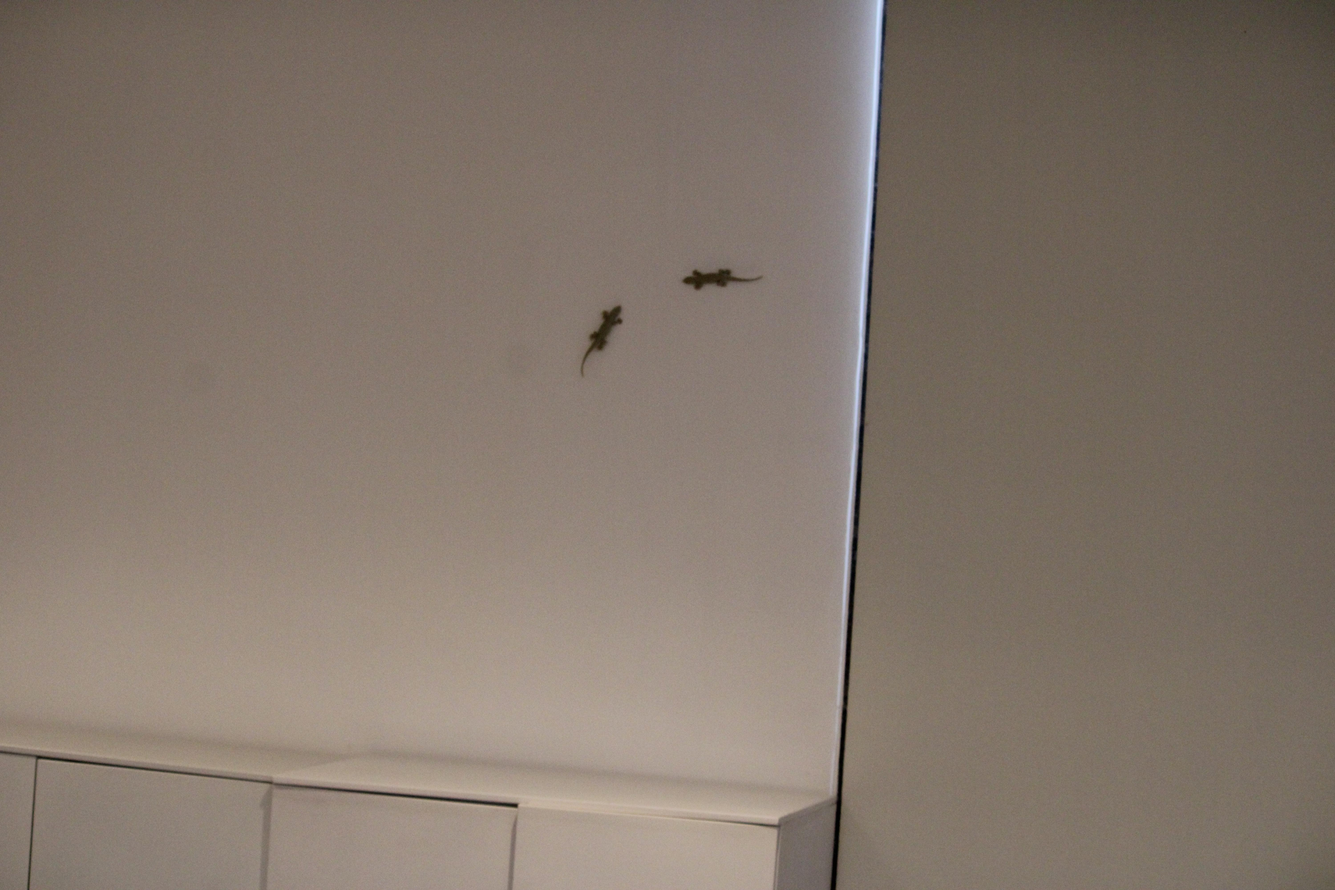lizard: (686, 245, 764, 318), (574, 294, 630, 381)
